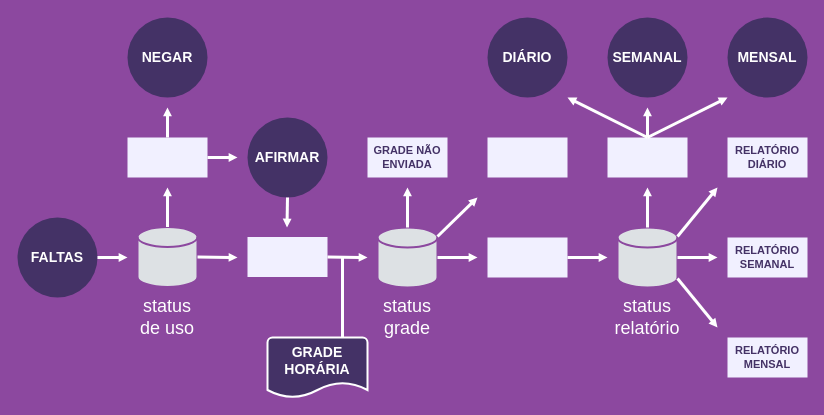
This 824x415 diagram has some shape labels left out. The shapes that lost their labels are listed below. From the top down, each one's centre as x and y in pixels, then its label:
At point (167, 157): "PRIMEIRO USO".
At point (527, 157): "GRADE DESATUAL.".
At point (647, 157): "RELATÓRIO NÃO CONFIG.".
At point (287, 256): "USO CONFIRM.".
At point (527, 257): "GRADE ATUALIZADA".
